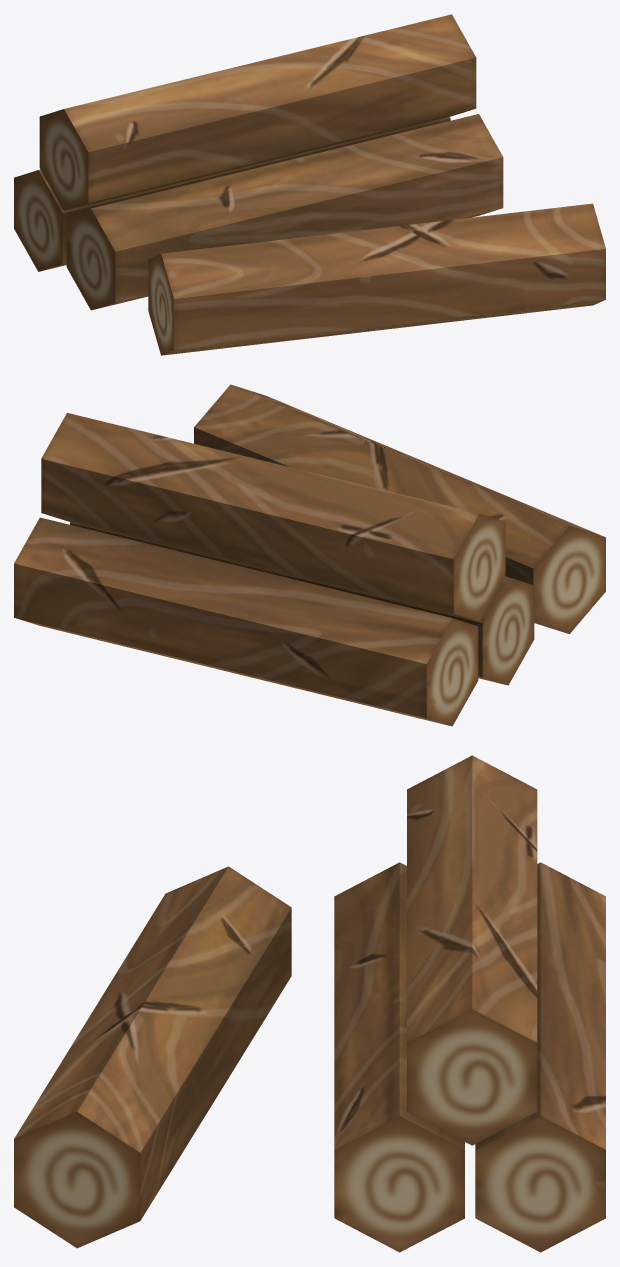
The model's file is modelLog.fbx.
The picture shows the model from 3 angles, top to bottom: view 1: azimuth 30°, elevation 25°; view 2: azimuth 150°, elevation 25°; view 3: azimuth 270°, elevation 25°; orthographic projection. The views are drawn at different scales.
Parts seen in each view (by area): view 1: modelLog; view 2: modelLog; view 3: modelLog.
Part boxes in pixels (<box>): modelLog: <box>14,14,605,355</box>; modelLog: <box>14,384,605,726</box>; modelLog: <box>14,755,605,1252</box>.
Size of the model in its own units: 13.4 by 5.87 by 12.92.
